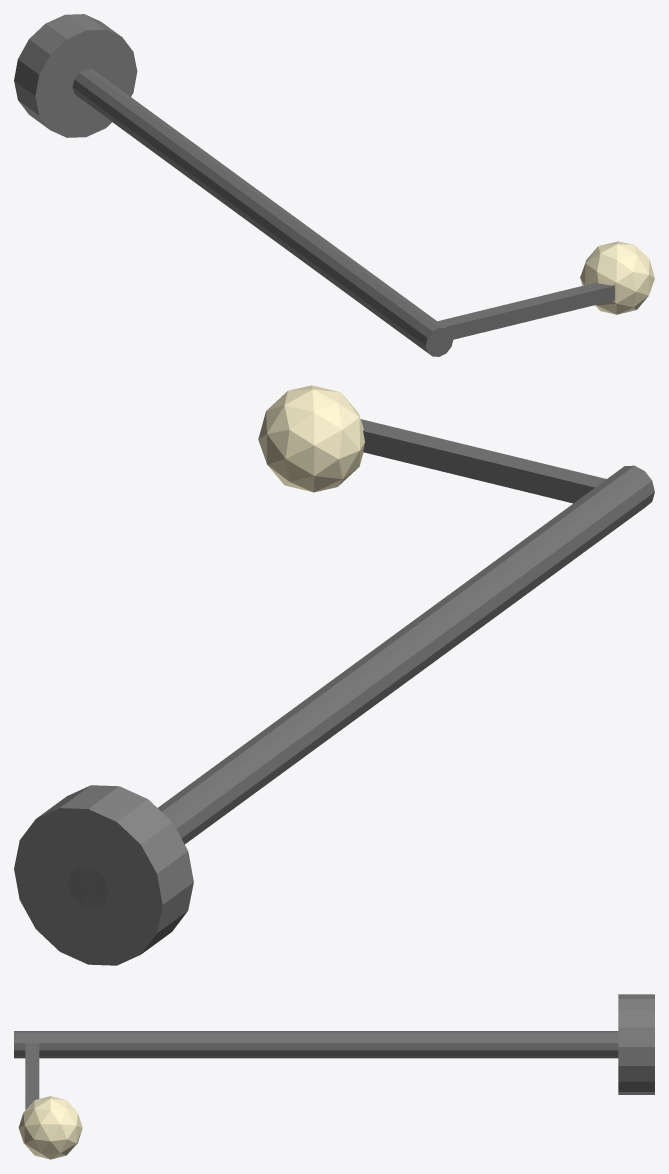
File: city_street_lamp_single.glb
The picture shows the model from 3 angles, top to bottom: view 1: azimuth 30°, elevation 25°; view 2: azimuth 150°, elevation 25°; view 3: azimuth 270°, elevation 25°; orthographic projection. The views are drawn at different scales.
Visible parts, largest first — view 1: pole, base, arm, lamp_glow; view 2: pole, base, lamp_glow, arm; view 3: pole, base, lamp_glow, arm.
Part boxes in pixels (x1=…): pole: x1=72, y1=69, x2=453, y2=356; base: x1=14, y1=14, x2=137, y2=137; arm: x1=438, y1=282, x2=614, y2=339; lamp_glow: x1=580, y1=241, x2=654, y2=314; pole: x1=68, y1=465, x2=654, y2=907; base: x1=14, y1=785, x2=193, y2=965; lamp_glow: x1=258, y1=385, x2=364, y2=492; arm: x1=361, y1=419, x2=606, y2=503; pole: x1=14, y1=1031, x2=618, y2=1058; base: x1=618, y1=994, x2=654, y2=1094; lamp_glow: x1=18, y1=1096, x2=82, y2=1159; arm: x1=25, y1=1043, x2=39, y2=1109.
Size of the model in its own units: 1.22 by 0.44 by 2.8.
